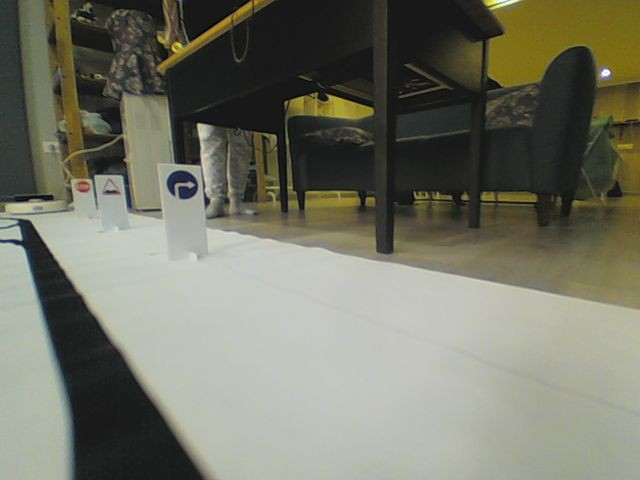Nerov: (100, 177, 121, 196)
Right: (165, 169, 199, 200)
